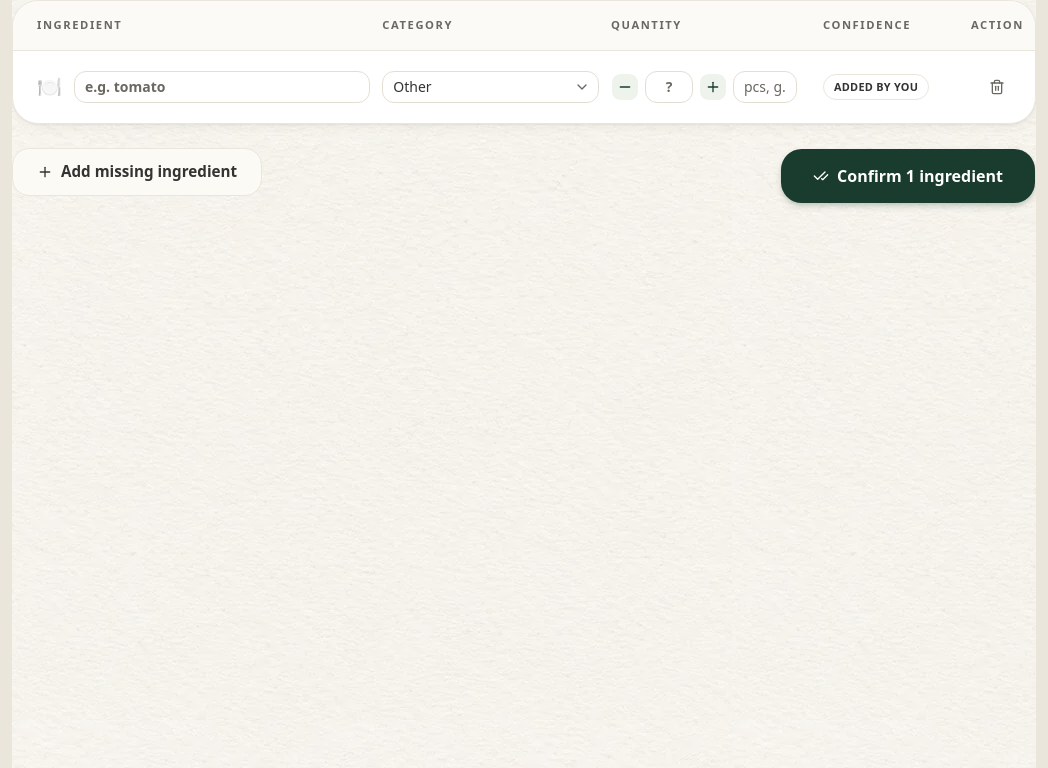
Test case: IngredientReview › blocks confirming rows with empty names or bad quantities
The width and height of the screenshot is (1048, 768).
Type "lots" into the field named "Quantity" at {"x": 669, "y": 87}, box [645,71,693,103]
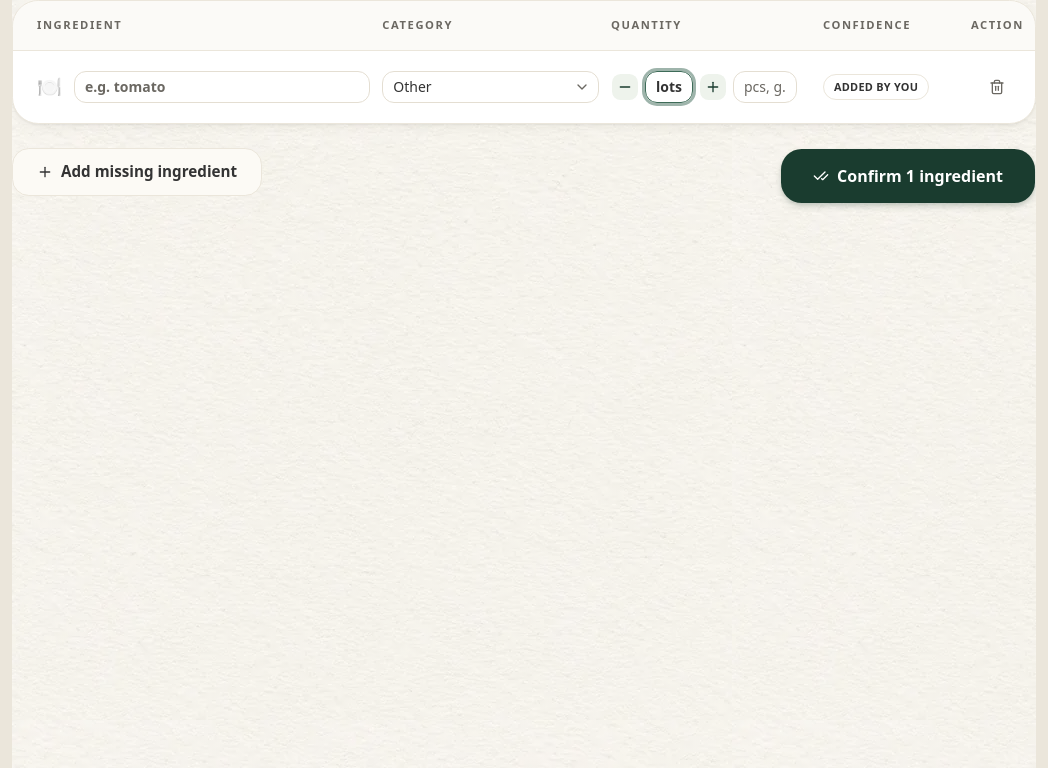
Click the button "Confirm 1 ingredient" at {"x": 908, "y": 176}, box [780,148,1036,204]
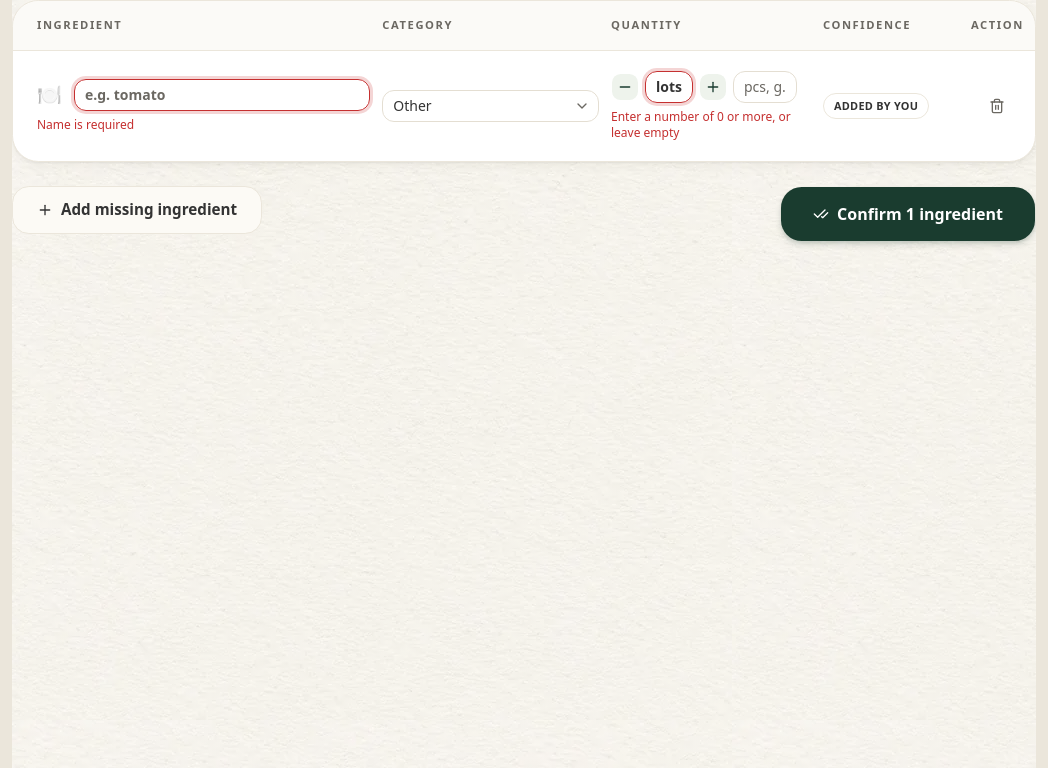
Result: the text "Name is required" is shown at [37,116,134,133]
Result: the text "Enter a number of 0 or more, or leave empty" is shown at [611,109,811,141]
